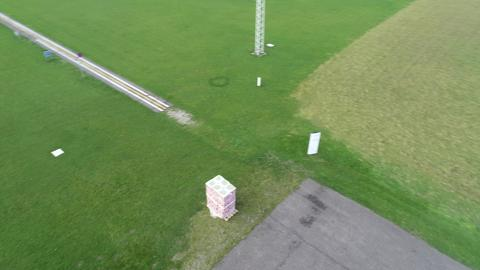RockwoolPallet: (205, 174, 237, 219)
